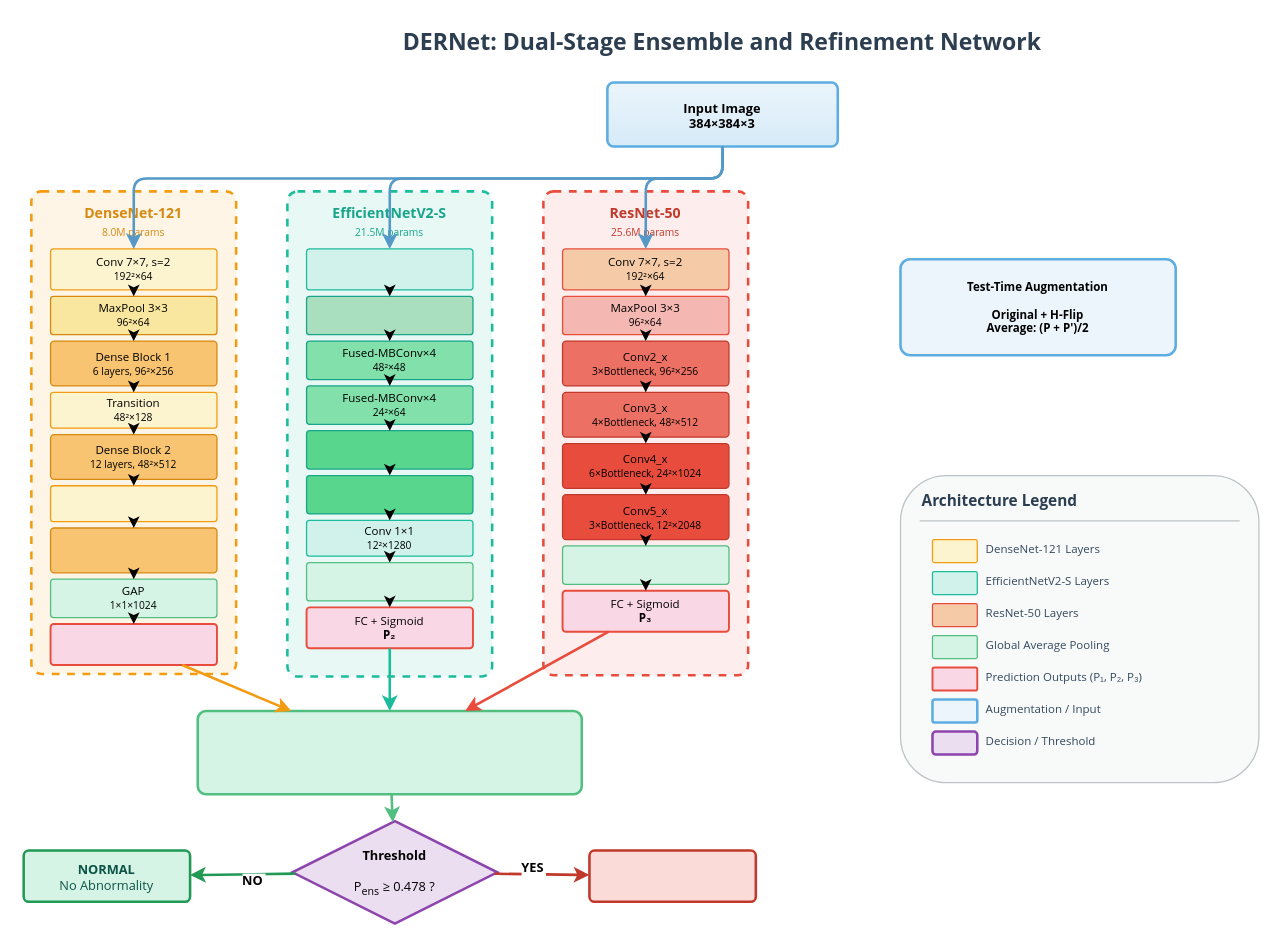
This 1281x946 diagram has some shape labels left out. Here are the shapes that lost their labels. From the top down, the centre of each, then its label:
At pixel 389 269: "Conv 3×3, s=2 192²×24".
At pixel 389 315: "Fused-MBConv×2 96²×24".
At pixel 389 449: "MBConv+SE×6 12²×128".
At pixel 133 503: "Transition 24²×256".
At pixel 389 494: "MBConv+SE×9 12²×160".
At pixel 133 550: "Dense Block 3 24 layers, 24²×1024".
At pixel 645 564: "GAP 1×1×2048".
At pixel 389 581: "GAP 1×1×1280".
At pixel 133 643: "FC + Sigmoid P₁".
At pixel 389 752: "Weighted Ensemble P ens = 0.38·P₁ + 0.36·P₂ + 0.26·P₃".
At pixel 672 875: "ABNORMAL Pathology Detected".
